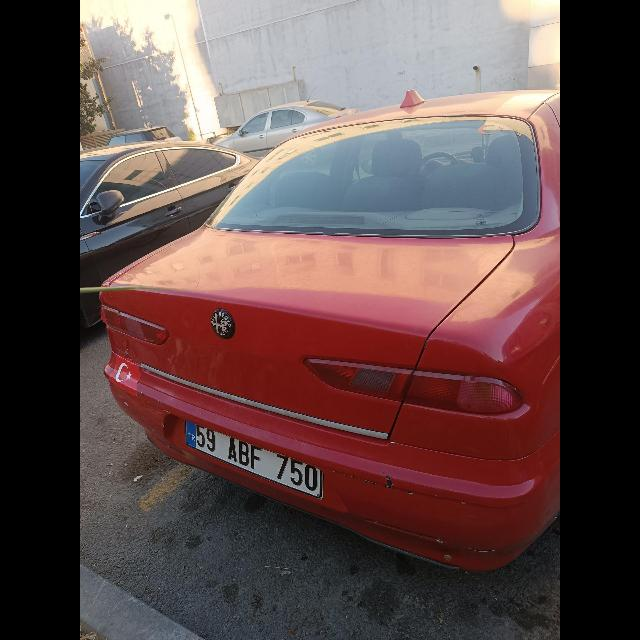Plaka: (185, 418, 322, 498)
